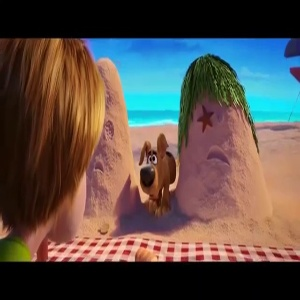Scooby: (136, 133, 175, 202)
